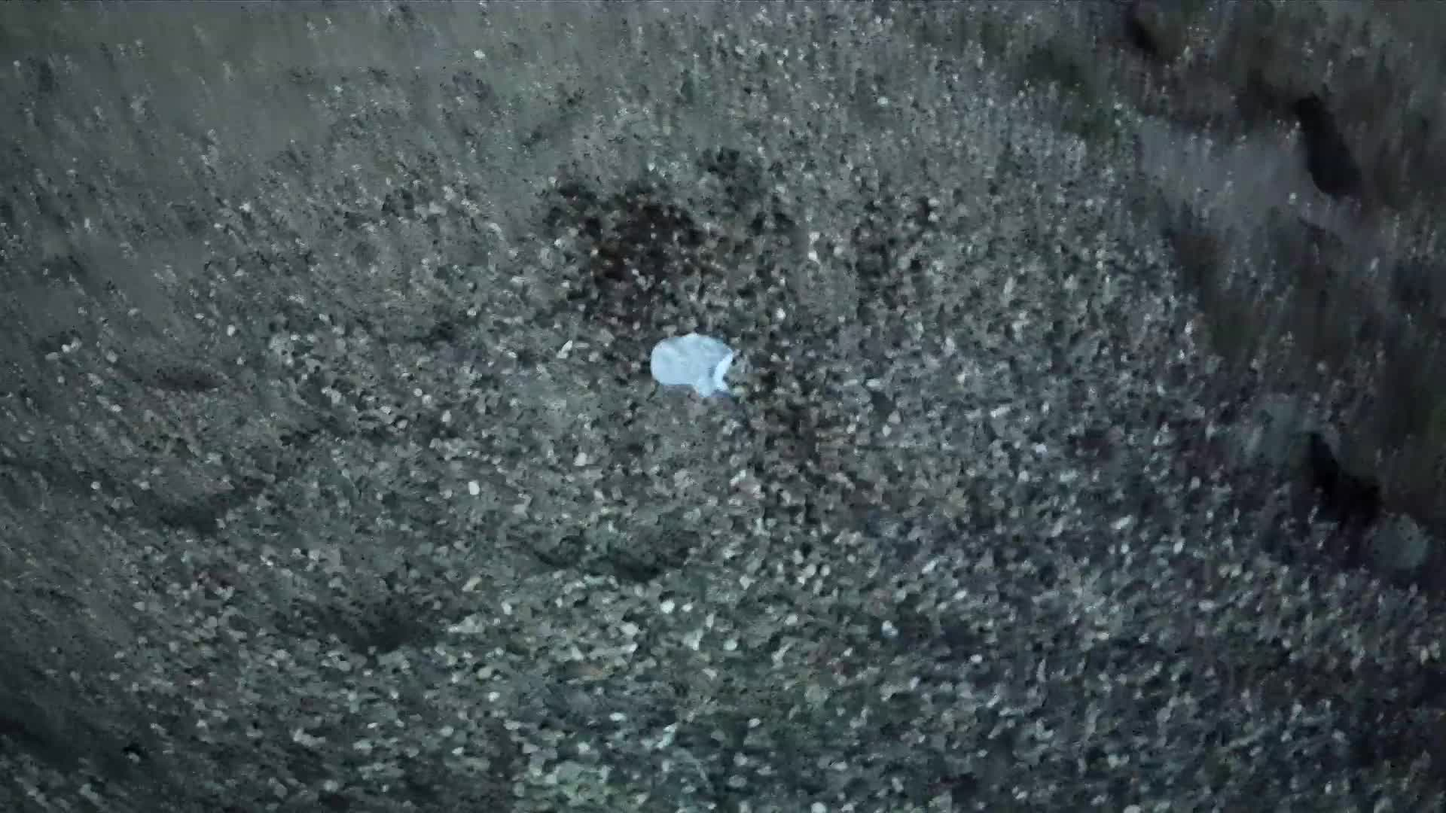Target: (647, 328, 743, 404)
